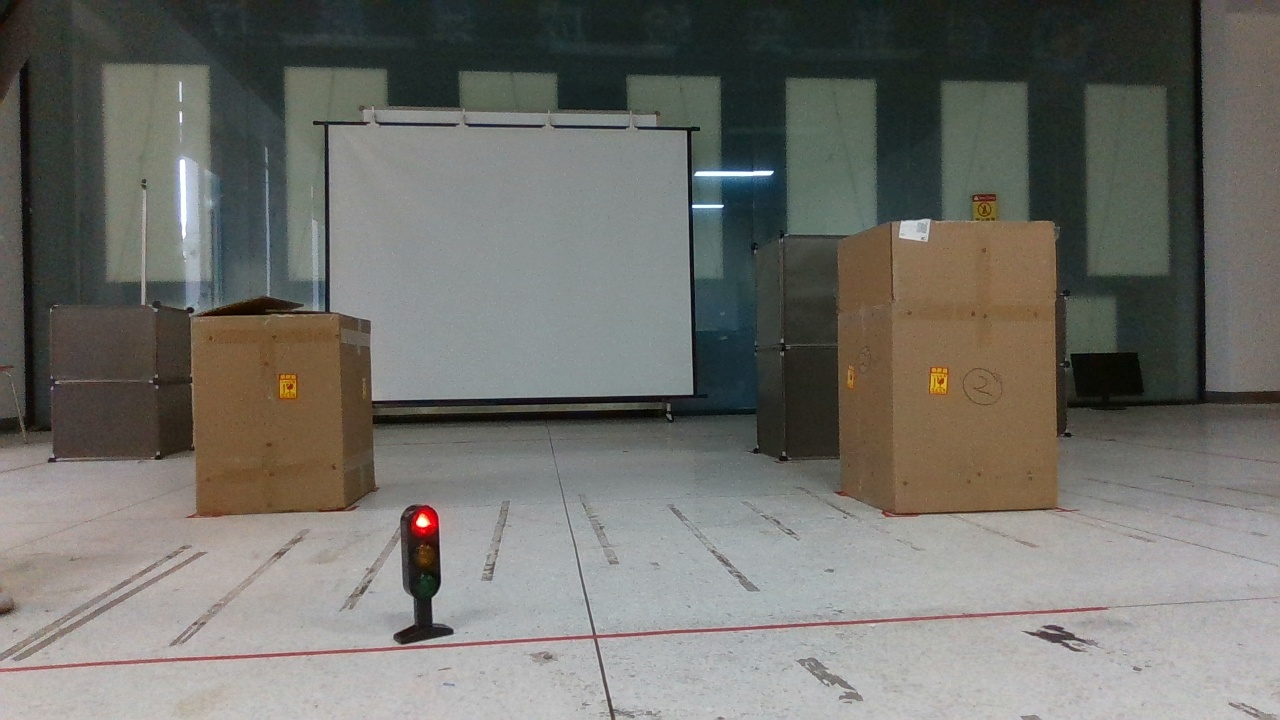red_light: (380, 498, 476, 656)
